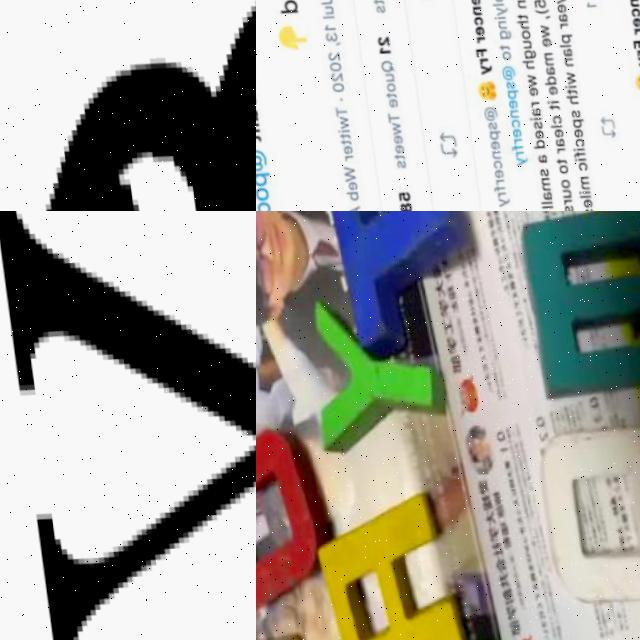0: (327, 58, 340, 69), (330, 80, 343, 91)
1: (376, 43, 389, 52), (322, 22, 335, 30)
2: (325, 48, 339, 60), (328, 69, 341, 81), (374, 33, 388, 44)
3: (323, 29, 337, 40)
5: (394, 188, 408, 200), (531, 0, 545, 4)
8: (0, 0, 256, 211), (396, 198, 410, 211)
M: (517, 211, 640, 392)
O: (256, 424, 336, 630)
Q: (525, 418, 640, 625)
R: (311, 499, 470, 640)
T: (323, 211, 466, 355)
Y: (0, 211, 256, 640), (301, 291, 450, 460)
